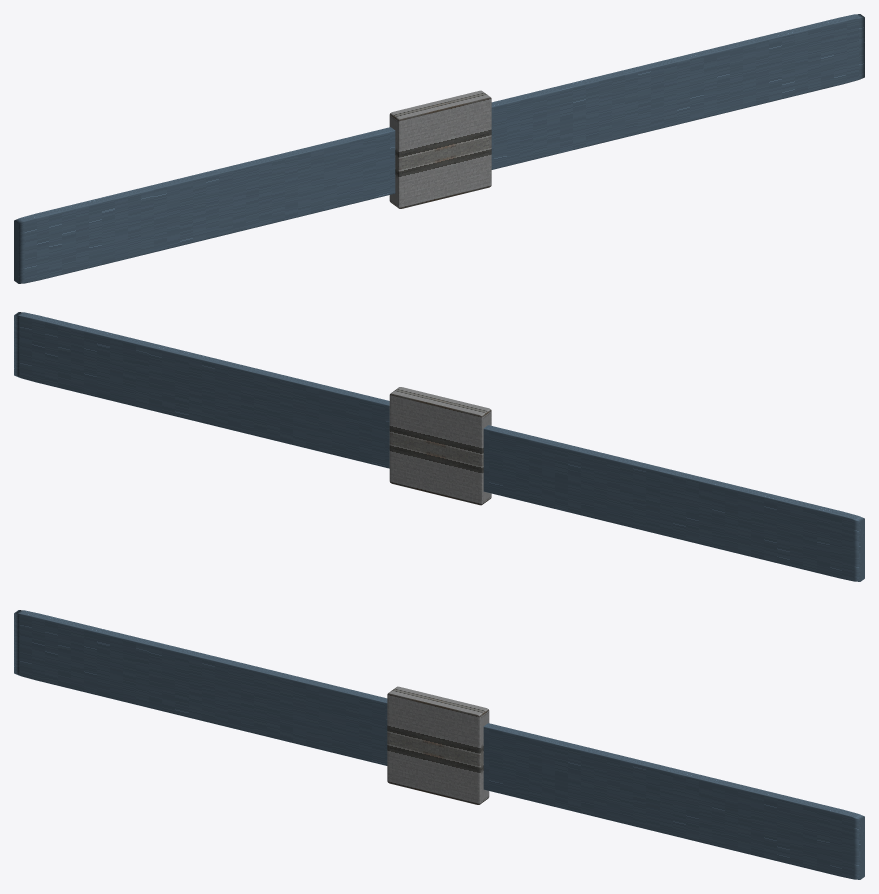
File: restraint.glb
3 views of the same model, one above another, from view 1: azimuth 30°, elevation 25°; view 2: azimuth 150°, elevation 25°; view 3: azimuth 330°, elevation 25° (orthographic).
Visible parts, largest first — view 1: strap, buckle; view 2: strap, buckle; view 3: strap, buckle.
Part boxes in pixels (x1,y1,x2,y2): strap: (14, 14, 864, 283); buckle: (389, 90, 491, 208); strap: (14, 312, 864, 581); buckle: (389, 387, 491, 505); strap: (14, 610, 864, 879); buckle: (387, 686, 489, 804).
Size of the model in its own units: 0.49 by 0.05 by 0.0096.
2 materials, 2 textured.
